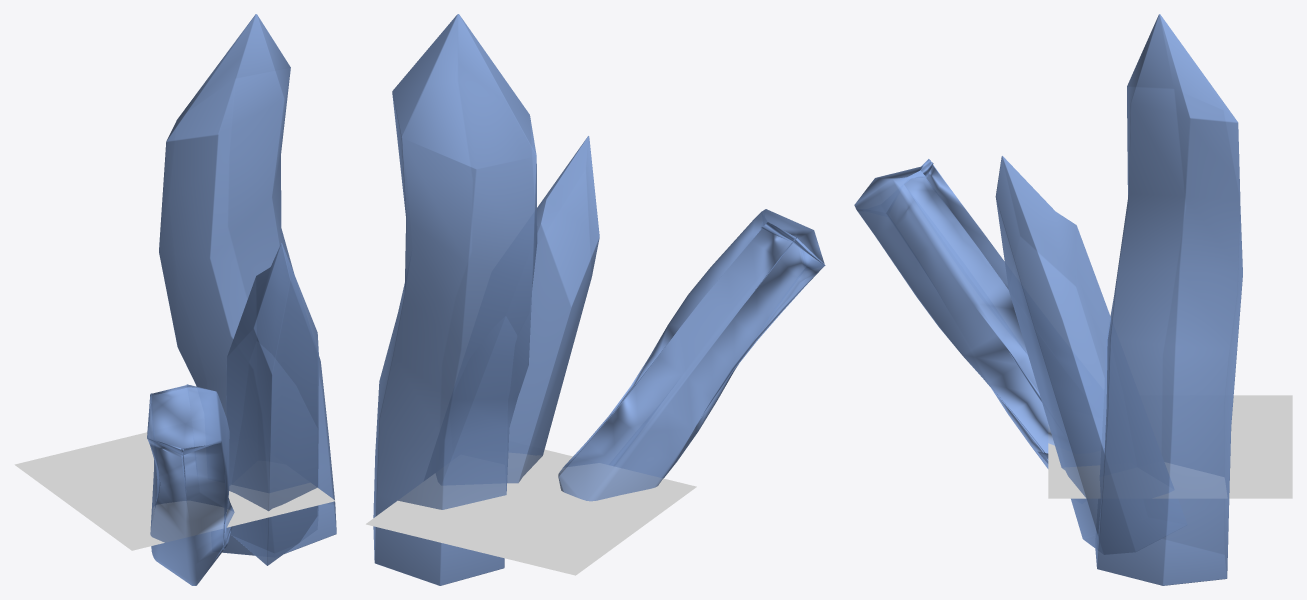
Rendered from Crystals5.fbx.
3 views of the same model, side by side, from view 1: azimuth 30°, elevation 25°; view 2: azimuth 150°, elevation 25°; view 3: azimuth 270°, elevation 25° (orthographic). The views are drawn at different scales.
Visible parts, largest first — view 1: Crystals5|Crystal3|Dupli|2, Crystals5|Crystal2|Dupli|, Crystals5, Crystals5|Crystal1|Dupli|1; view 2: Crystals5|Crystal3|Dupli|2, Crystals5|Crystal1|Dupli|1, Crystals5|Crystal2|Dupli|, Crystals5; view 3: Crystals5|Crystal3|Dupli|2, Crystals5|Crystal2|Dupli|, Crystals5|Crystal1|Dupli|1, Crystals5.
Part boxes in pixels (left/top/right/bottom): Crystals5|Crystal3|Dupli|2: left=159, top=14, right=336, bottom=555; Crystals5|Crystal2|Dupli|: left=226, top=243, right=318, bottom=565; Crystals5: left=14, top=432, right=335, bottom=550; Crystals5|Crystal1|Dupli|1: left=147, top=384, right=234, bottom=585; Crystals5|Crystal3|Dupli|2: left=373, top=14, right=537, bottom=585; Crystals5|Crystal1|Dupli|1: left=558, top=209, right=825, bottom=501; Crystals5|Crystal2|Dupli|: left=424, top=136, right=599, bottom=484; Crystals5: left=366, top=449, right=696, bottom=575; Crystals5|Crystal3|Dupli|2: left=1095, top=14, right=1242, bottom=585; Crystals5|Crystal2|Dupli|: left=995, top=156, right=1186, bottom=554; Crystals5|Crystal1|Dupli|1: left=854, top=159, right=1054, bottom=468; Crystals5: left=1048, top=395, right=1292, bottom=498.
Size of the model in its own units: 128 by 207 by 150.
